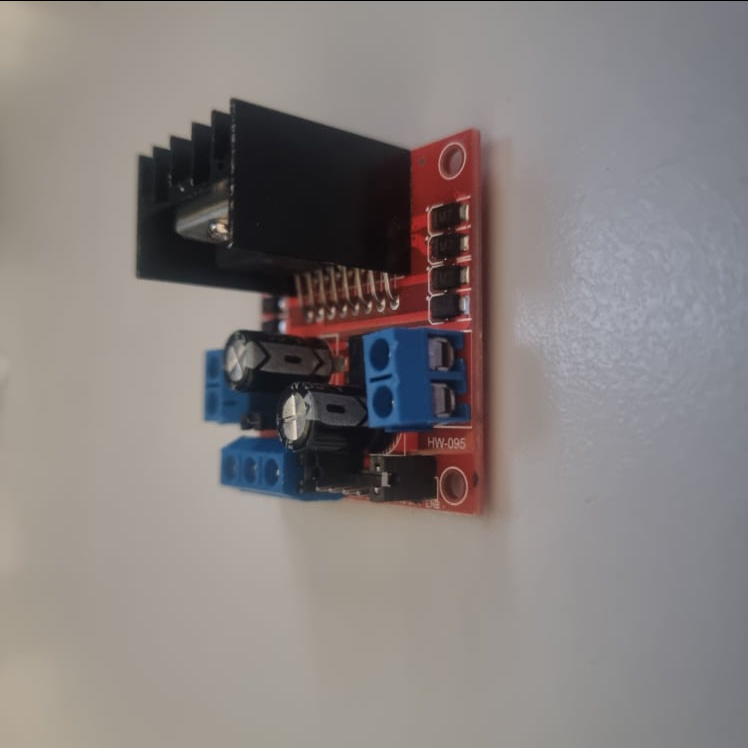MOTOR: (133, 98, 484, 514)
